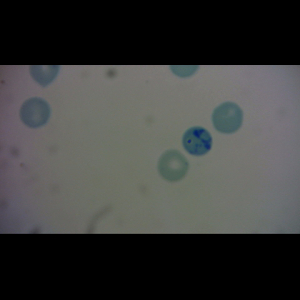aggregate reticulocyte: (181, 126, 213, 157)
erythrocyte: (20, 97, 51, 129), (212, 102, 243, 133)
punctate reticulocyte: (158, 149, 190, 182)
